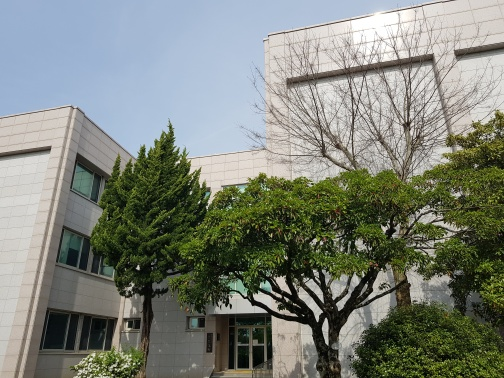College of Nursing: (38, 44, 476, 362)
